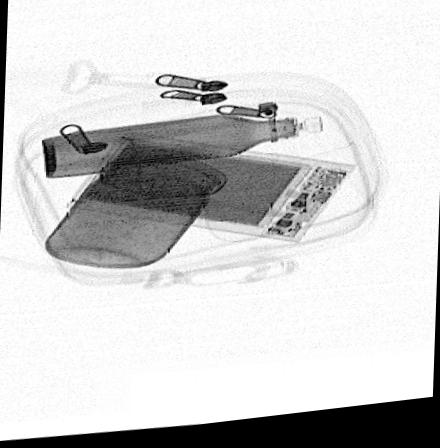Powerbank: (63, 136, 357, 250)
